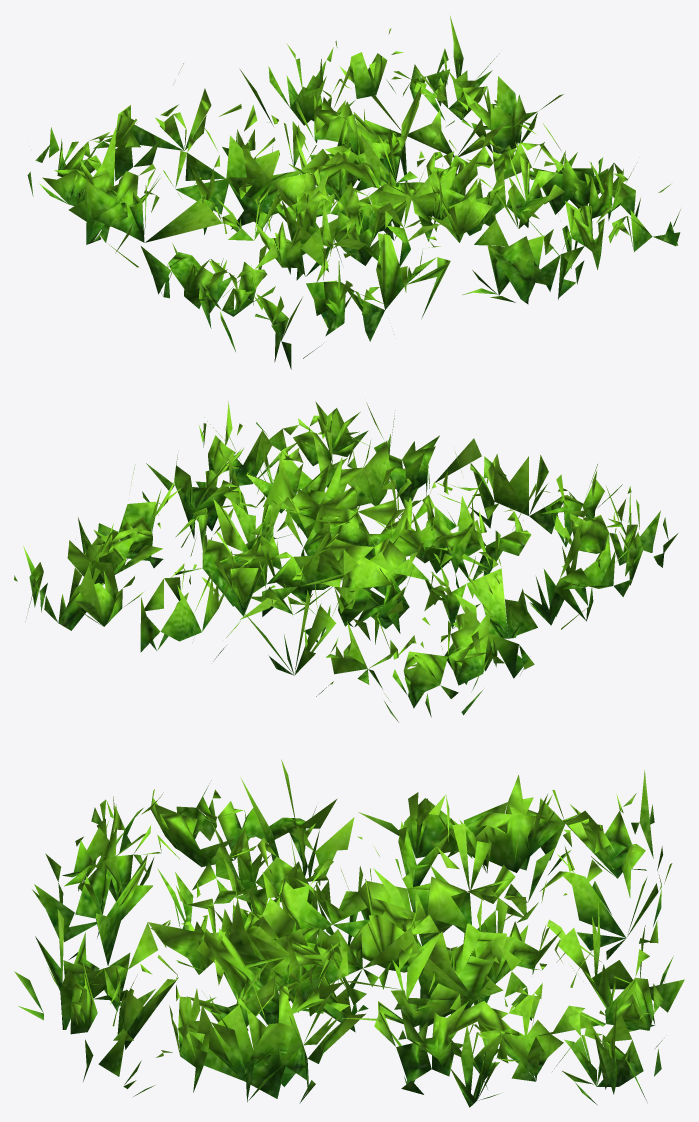
The model's file is kw_grass.glb.
3 views of the same model, one above another, from view 1: azimuth 30°, elevation 25°; view 2: azimuth 150°, elevation 25°; view 3: azimuth 270°, elevation 25° (orthographic). The views are drawn at different scales.
Parts seen in each view (by area): view 1: frame; view 2: frame; view 3: frame.
Boxes of the visible parts, box(x1,y1,x2,y2) form: frame: box(27, 16, 680, 369); frame: box(14, 401, 678, 722); frame: box(14, 759, 684, 1107).
Bounding box in the file's own units: 1.58 × 0.3549 × 1.53.
1 material, 1 textured.
